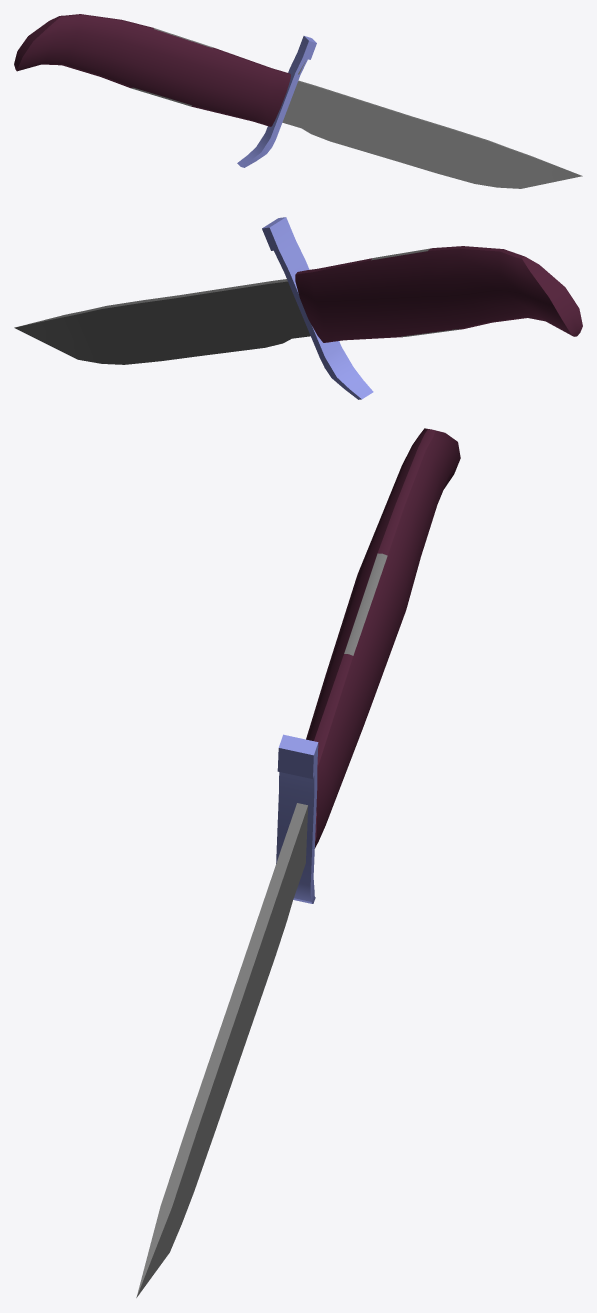
File: knife.fbx
The picture shows the model from 3 angles, top to bottom: view 1: azimuth 30°, elevation 25°; view 2: azimuth 150°, elevation 25°; view 3: azimuth 270°, elevation 25°; orthographic projection. The views are drawn at different scales.
Visible parts, largest first — view 1: knife_low; view 2: knife_low; view 3: knife_low.
Part boxes in pixels (left/top/right/bottom): knife_low: left=14, top=14, right=582, bottom=188; knife_low: left=14, top=217, right=582, bottom=399; knife_low: left=136, top=428, right=460, bottom=1297.
Size of the model in its own units: 121 by 423 by 180.
